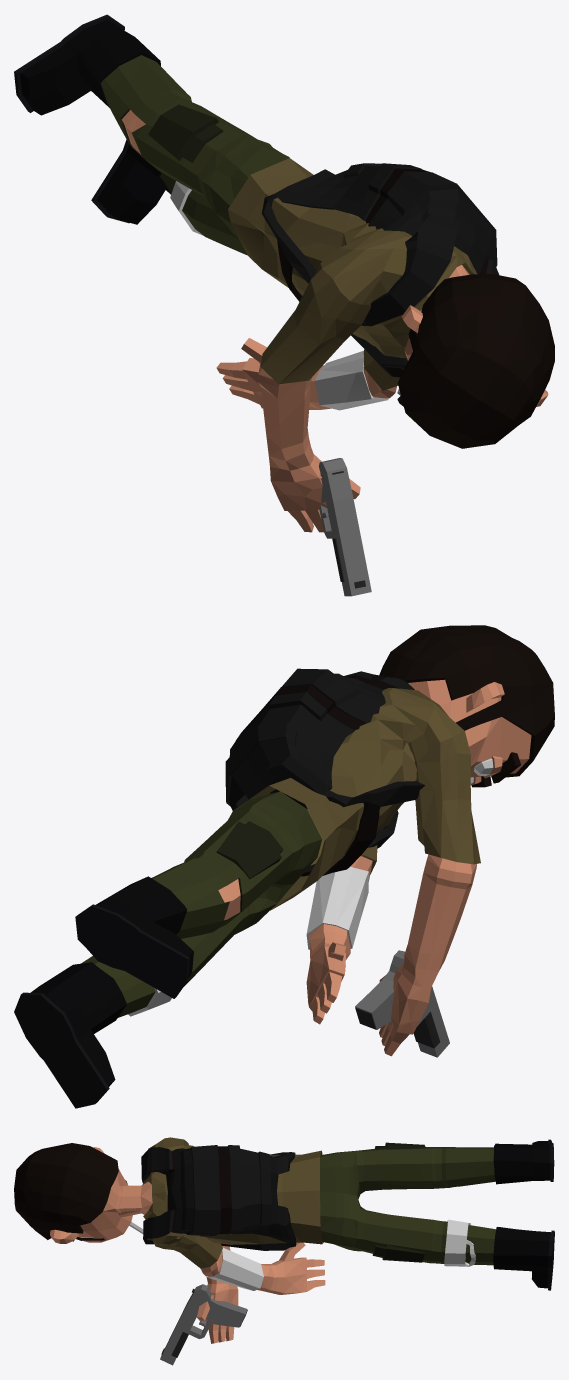
Rendered from frame_0016.obj.
3 views of the same model, one above another, from view 1: azimuth 30°, elevation 25°; view 2: azimuth 150°, elevation 25°; view 3: azimuth 270°, elevation 25° (orthographic). The views are drawn at different scales.
Visible parts, largest first — view 1: Body, Gun; view 2: Body, Gun; view 3: Body, Gun.
Boxes of the visible parts, box(x1,y1,x2,y2) form: Body: box(14, 14, 554, 532); Gun: box(319, 458, 371, 596); Body: box(14, 625, 554, 1108); Gun: box(355, 950, 449, 1057); Body: box(14, 1137, 554, 1343); Gun: box(160, 1284, 247, 1365).
Bounding box in the file's own units: 1.31 × 2.07 × 4.15.
